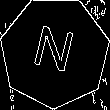N_S: (30, 23, 80, 82)
